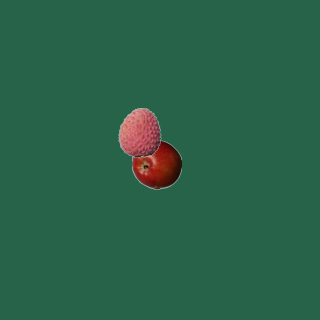Apple Braeburn: (131, 139, 181, 189)
Lychee: (114, 107, 164, 157)
